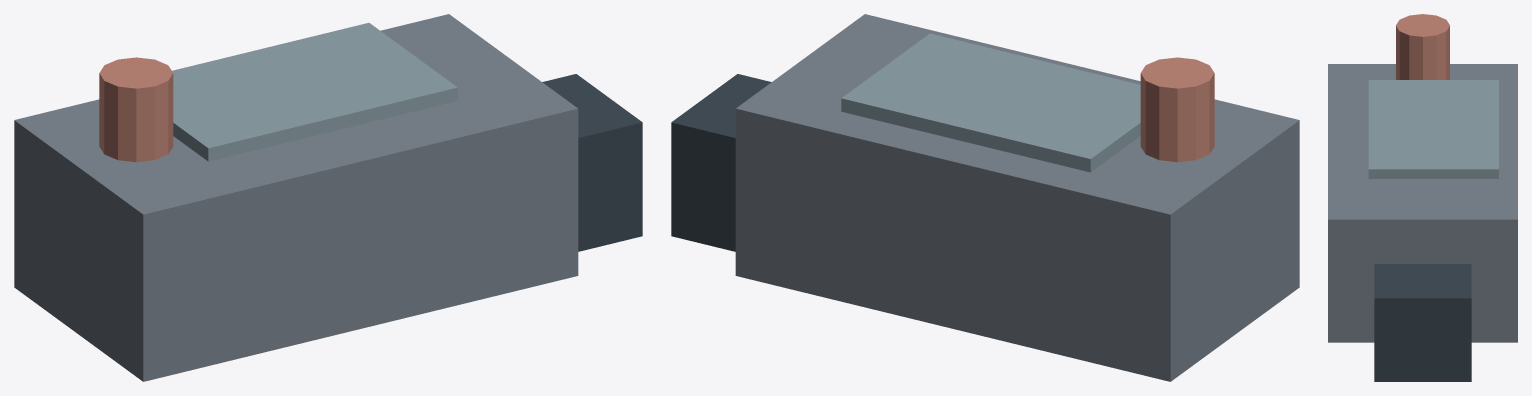
File: tecnologia_scanner.glb
3 views of the same model, side by side, from view 1: azimuth 30°, elevation 25°; view 2: azimuth 150°, elevation 25°; view 3: azimuth 270°, elevation 25° (orthographic). The views are drawn at different scales.
Bounding box in the file's own units: 0.83 × 0.38 × 0.35.
